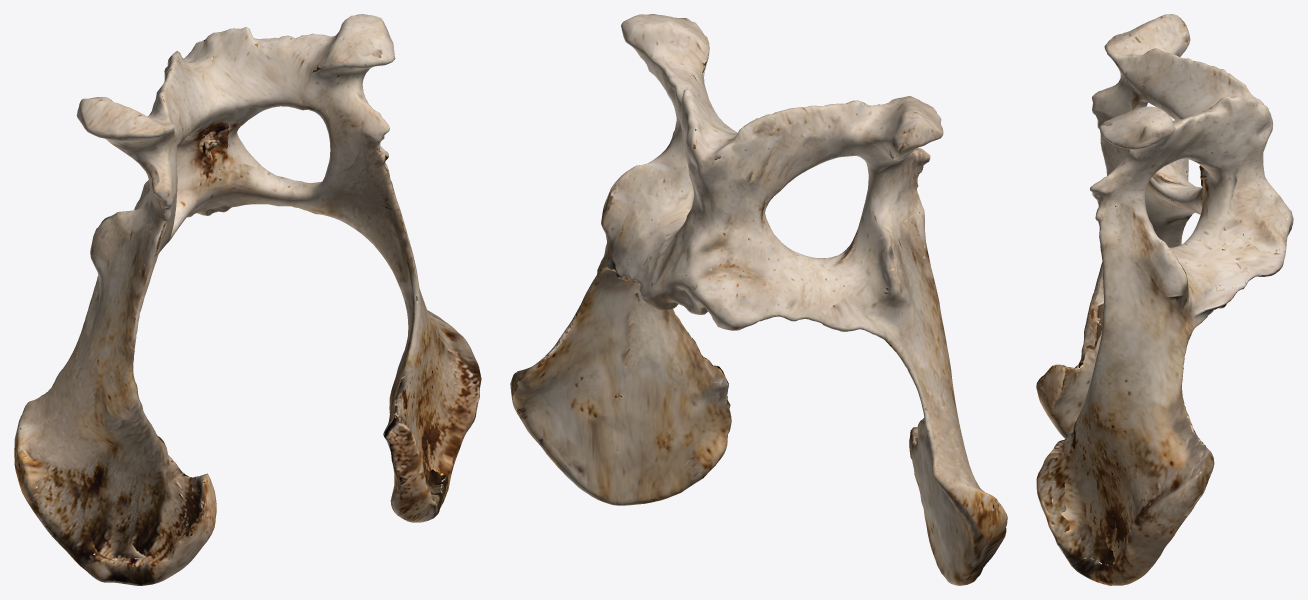
The model's file is Sacrum_boneTex .glb.
3 renders of one model, left to right at view 1: azimuth 30°, elevation 25°; view 2: azimuth 150°, elevation 25°; view 3: azimuth 270°, elevation 25°, orthographic. The views are drawn at different scales.
Parts seen in each view (by area): view 1: tmpfdl2e2yo.ply; view 2: tmpfdl2e2yo.ply; view 3: tmpfdl2e2yo.ply.
Part boxes in pixels (<box>): tmpfdl2e2yo.ply: <box>14,14,481,585</box>; tmpfdl2e2yo.ply: <box>510,14,1007,585</box>; tmpfdl2e2yo.ply: <box>1036,14,1293,585</box>.
Bounding box in the file's own units: 0.4137 × 0.4238 × 0.2193.
Materials: 1 (1 with a texture image).
